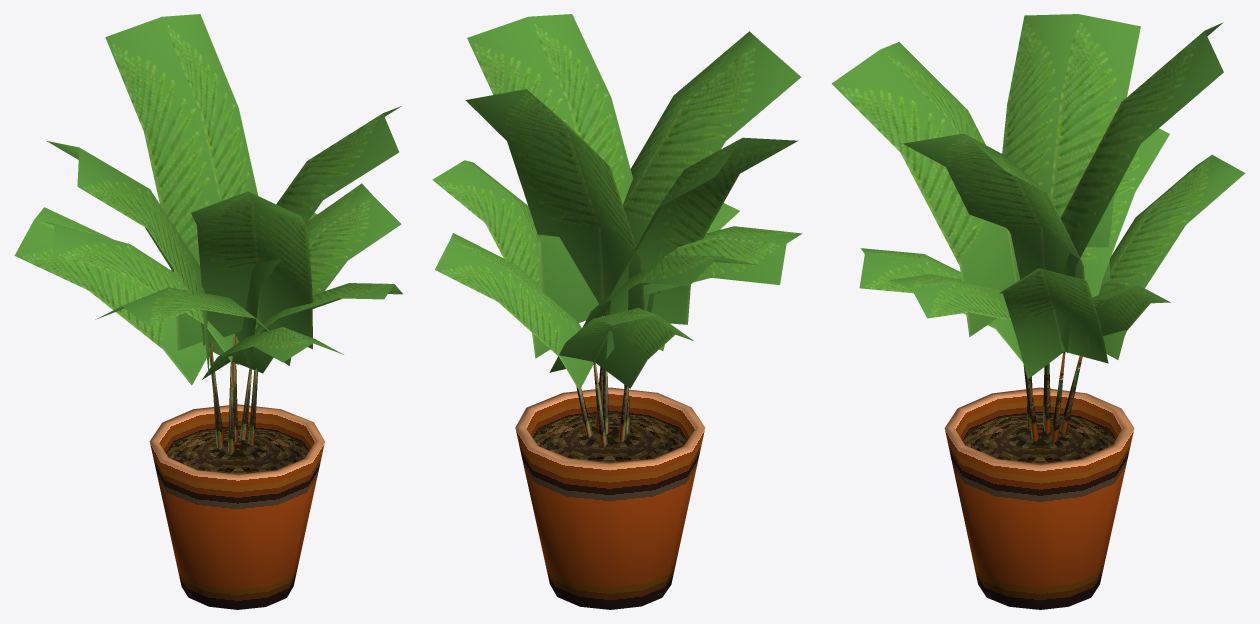
The model's file is int_plt_yamadori.dae.
The picture shows the model from 3 angles, left to right: view 1: azimuth 30°, elevation 25°; view 2: azimuth 150°, elevation 25°; view 3: azimuth 270°, elevation 25°; orthographic projection. The views are drawn at different scales.
Visible parts, largest first — view 1: int_plt_yamadori; view 2: int_plt_yamadori; view 3: int_plt_yamadori.
Boxes of the visible parts, box(x1,y1,x2,y2) form: int_plt_yamadori: box(14, 14, 402, 609); int_plt_yamadori: box(432, 14, 802, 609); int_plt_yamadori: box(831, 14, 1245, 609).
Size of the model in its own units: 36.5 by 56.7 by 38.4.
2 materials, 2 textured.
